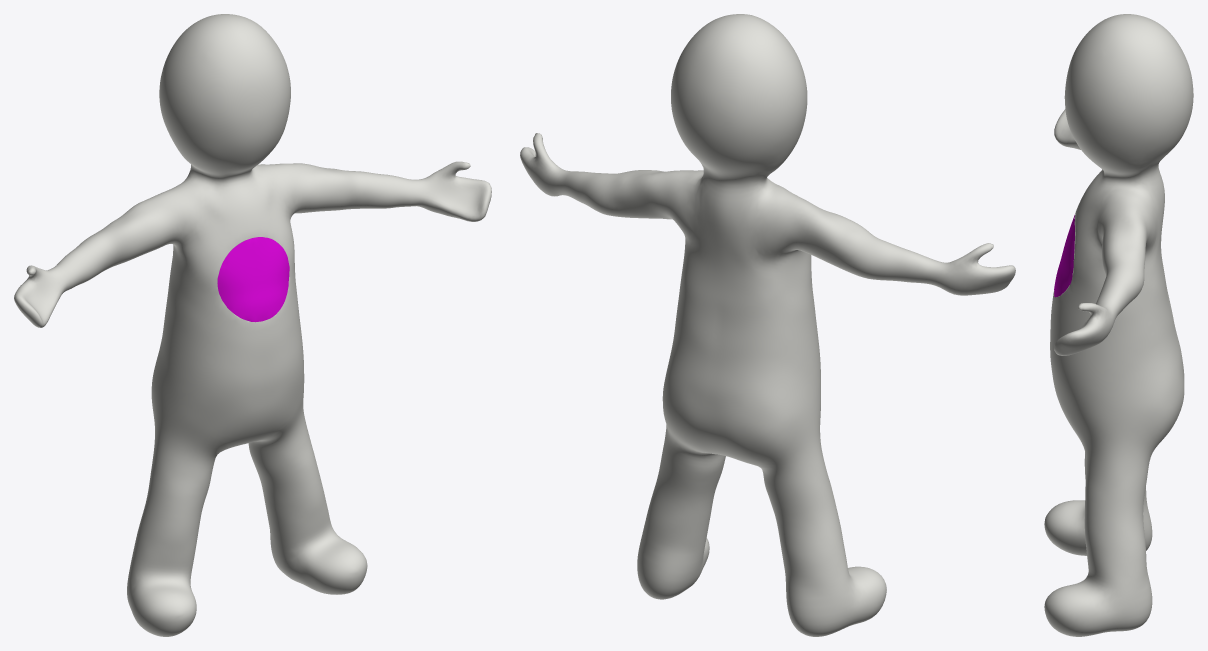
The model's file is person.fbx.
3 views of the same model, side by side, from view 1: azimuth 30°, elevation 25°; view 2: azimuth 150°, elevation 25°; view 3: azimuth 270°, elevation 25° (orthographic). The views are drawn at different scales.
Parts seen in each view (by area): view 1: PM3D_ZSphere_5; view 2: PM3D_ZSphere_5; view 3: PM3D_ZSphere_5.
Part boxes in pixels (x1,y1,x2,y2): PM3D_ZSphere_5: (14, 14, 491, 636); PM3D_ZSphere_5: (520, 14, 1015, 636); PM3D_ZSphere_5: (1044, 14, 1193, 636).
Bounding box in the file's own units: 105 × 121 × 28.64.
